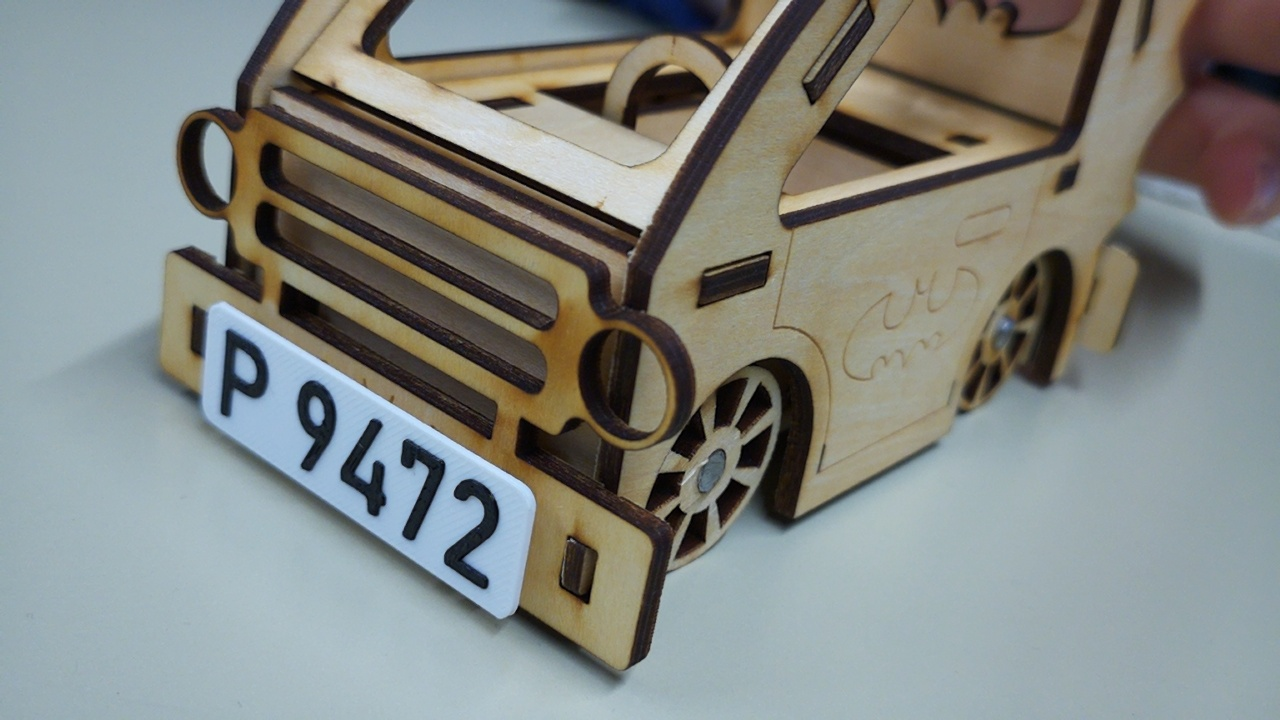license_plate: (199, 297, 539, 620)
